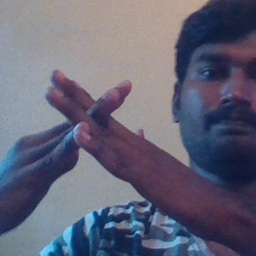W: (16, 59, 164, 190)
